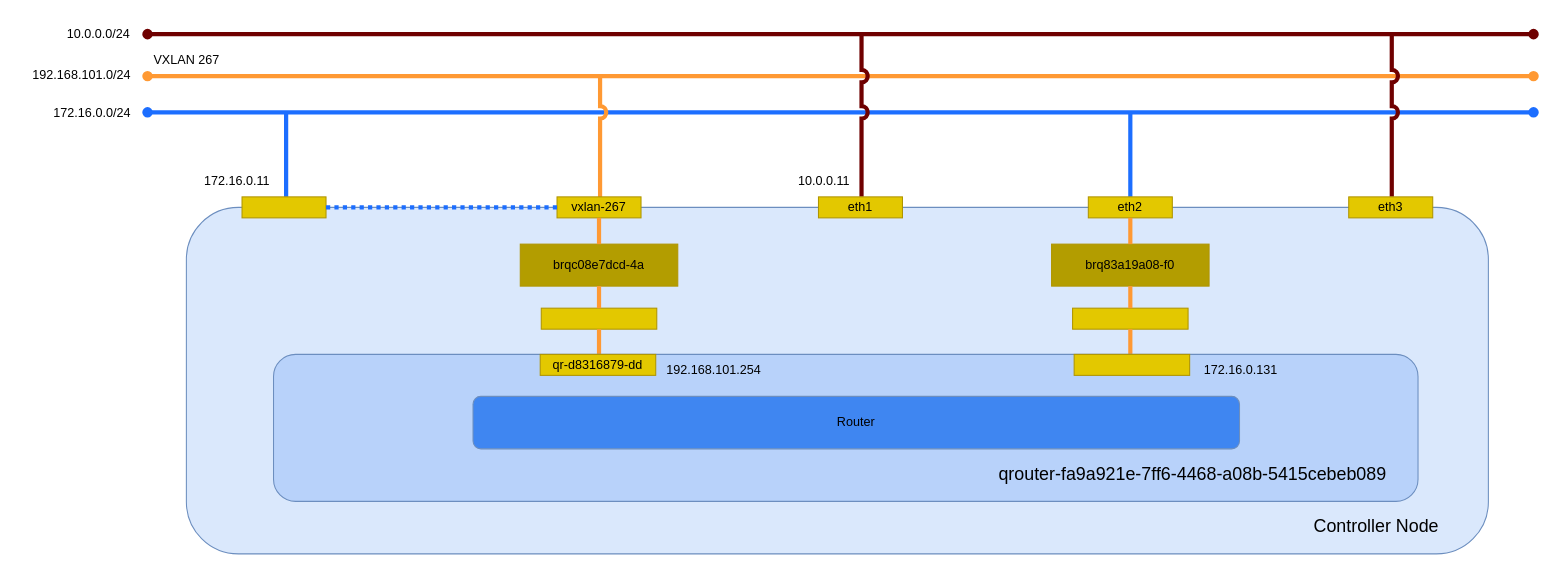
Some shapes in this 1562 by 572 pixel diagram are drawn without their labels. Each missing label, with the centre of its shape:
"eth0" goes at (x=283, y=207).
"qg-d8a9d7f6-47" goes at (x=1131, y=364).
"tapd8316879-dd" goes at (x=598, y=318).
"tapd8a9d7f6-47" goes at (x=1130, y=318).
